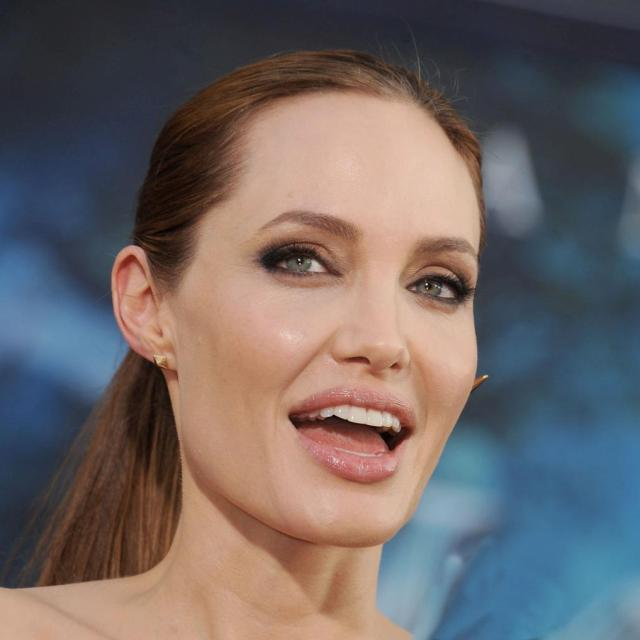no-earmuff: (97, 235, 197, 396)
